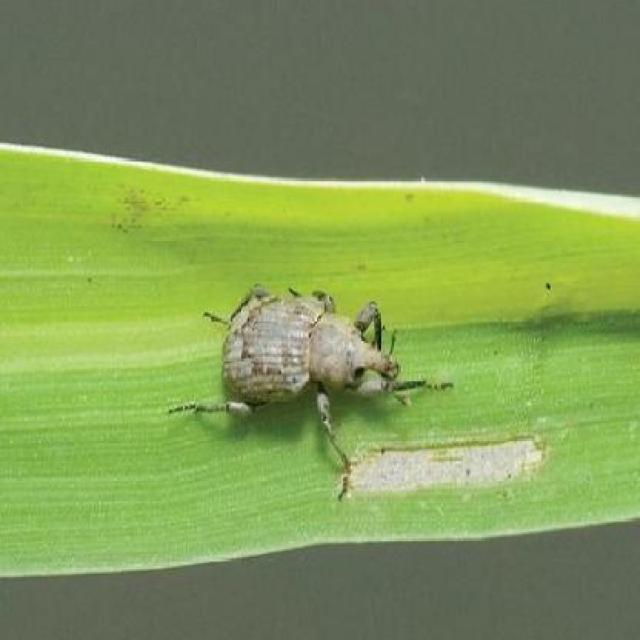rice-bug: (176, 282, 418, 464)
